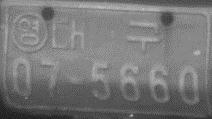-: (65, 71, 88, 91)
0: (11, 56, 34, 100), (177, 63, 200, 107)
5: (90, 60, 111, 101)
6: (117, 62, 141, 103), (148, 63, 171, 104)
7: (39, 58, 60, 100)
대구_D: (50, 15, 161, 55)
영: (9, 10, 48, 52)
